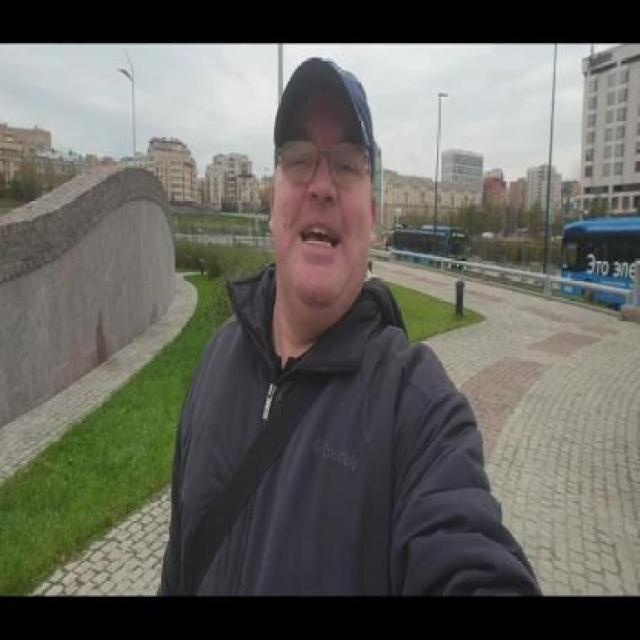Bus: (560, 220, 640, 309), (393, 225, 469, 273)
